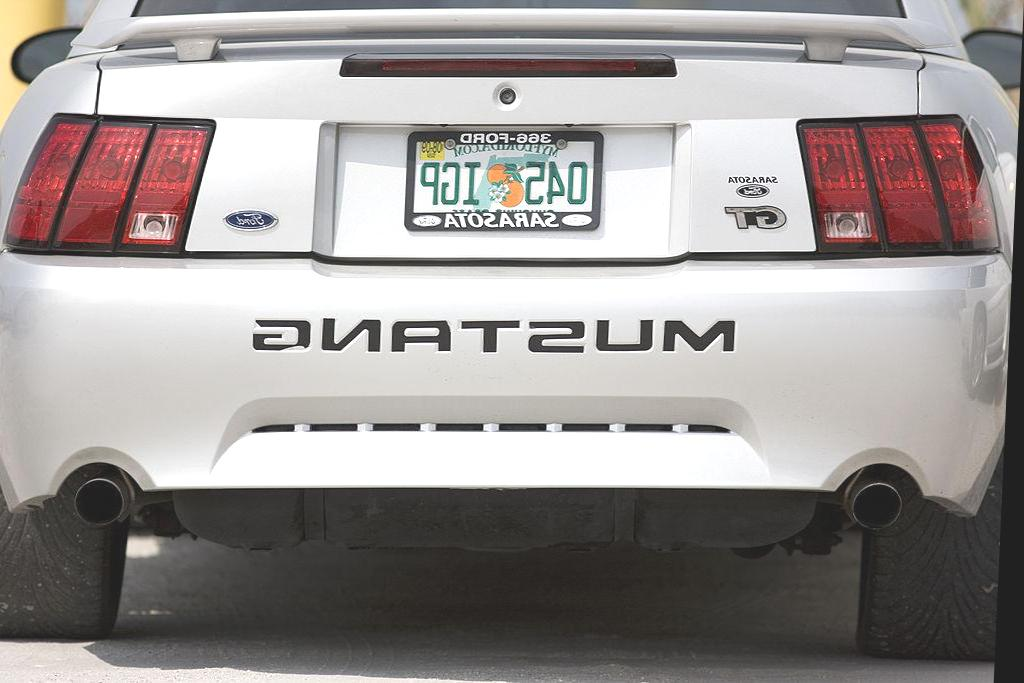License_Plate: (404, 132, 606, 231)
